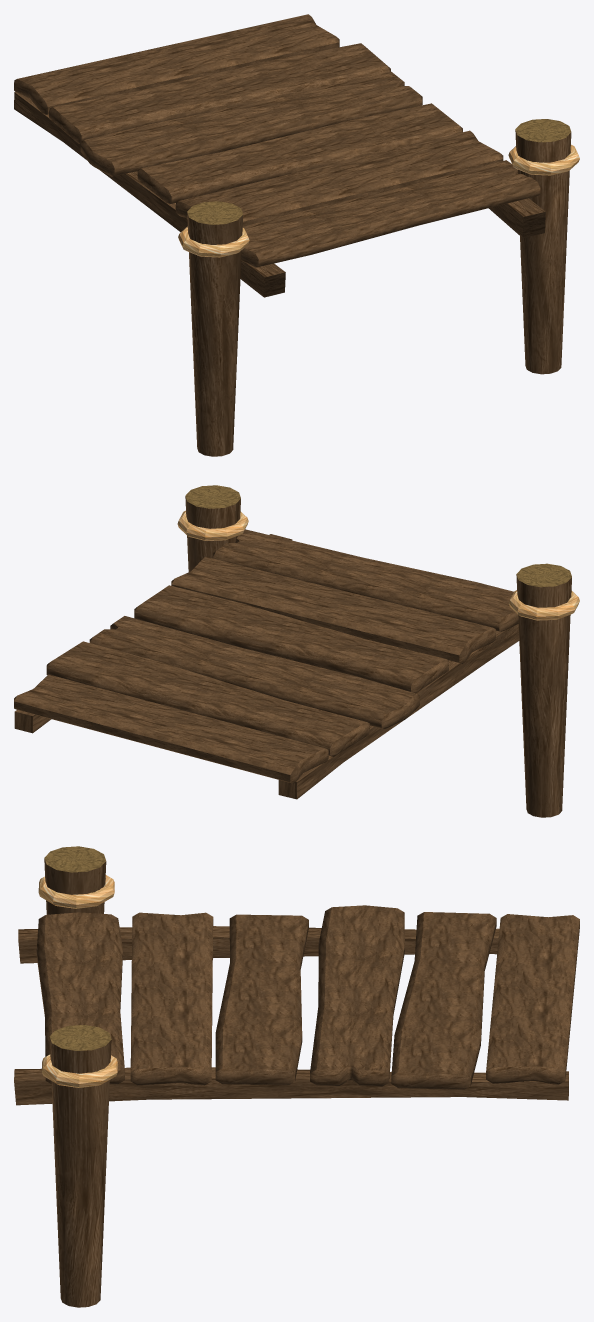
The model's file is avatar-garden_Dock01.glb.
3 renders of one model, top to bottom at view 1: azimuth 30°, elevation 25°; view 2: azimuth 150°, elevation 25°; view 3: azimuth 270°, elevation 25°, orthographic. The views are drawn at different scales.
Visible parts, largest first — view 1: Dock01; view 2: Dock01; view 3: Dock01.
Boxes of the visible parts, box(x1,y1,x2,y2) form: Dock01: box(14, 14, 579, 456); Dock01: box(14, 485, 579, 817); Dock01: box(14, 846, 579, 1307).
Bounding box in the file's own units: 6.54 × 3.74 × 7.35.
Materials: 6 (6 with a texture image).
